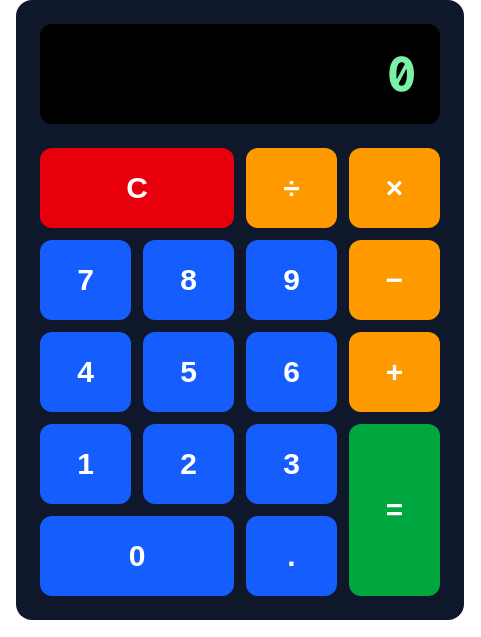
Test case: Calculator Component › AC-12: Clear Function › clear button resets display to 0
Click the button "5": x=188, y=372 [143,332,234,412]
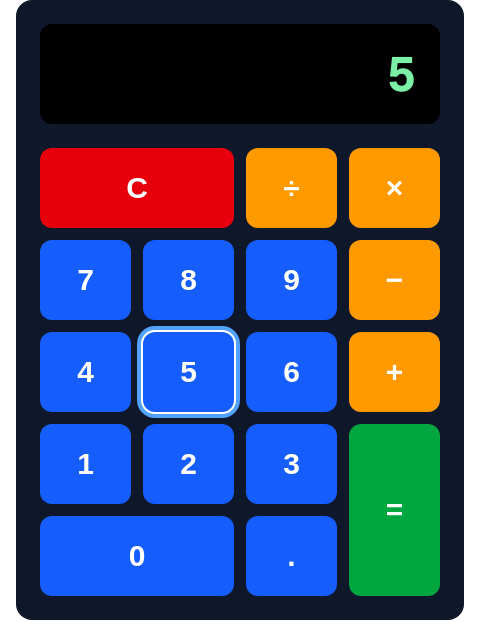
Click the button named "clear": x=137, y=188 [40,148,234,228]
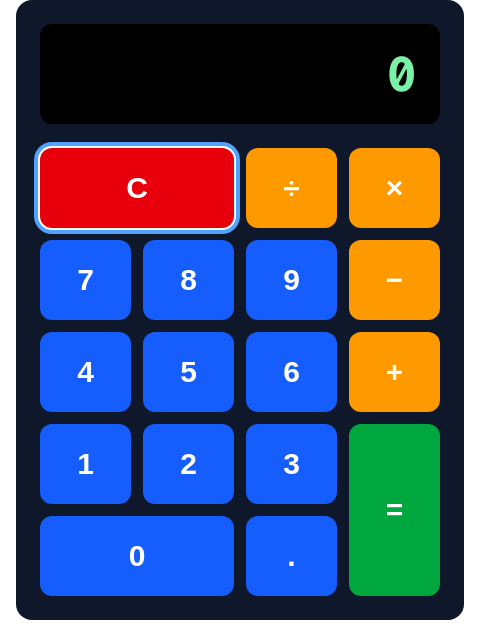
Check: the text with test id "calculator-display" reads "0", box [387,43,416,105]
